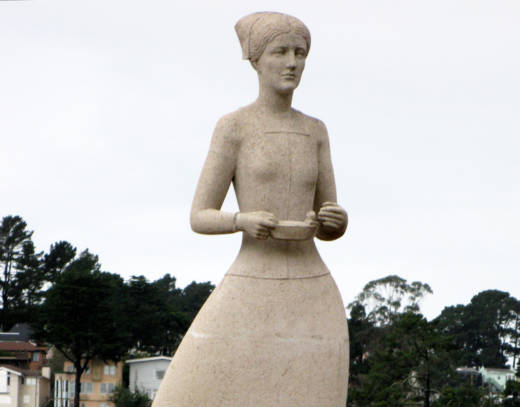person-like: (142, 7, 356, 407)
